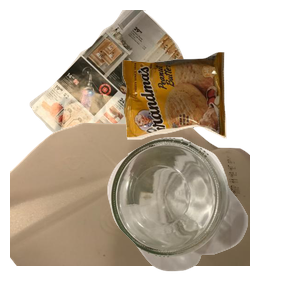glass: (105, 135, 300, 300)
paper: (27, 10, 230, 190)
plastic: (10, 120, 250, 300)
trash: (120, 50, 300, 182)
